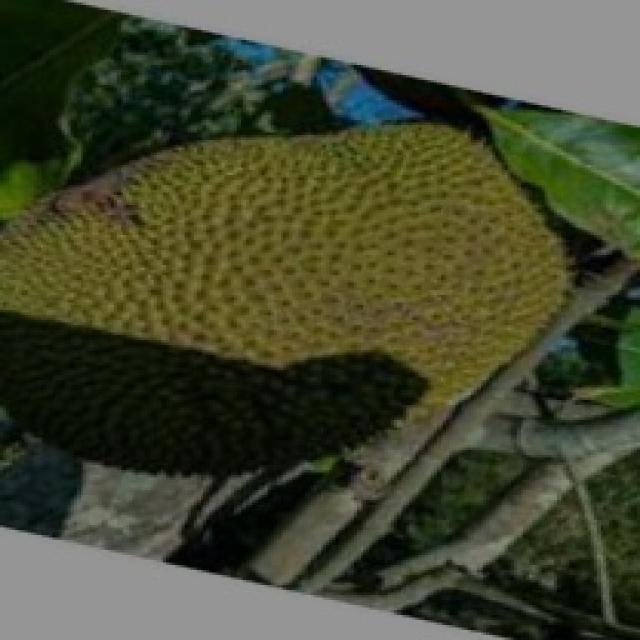Fruit: (234, 45, 631, 427), (3, 68, 415, 418)
